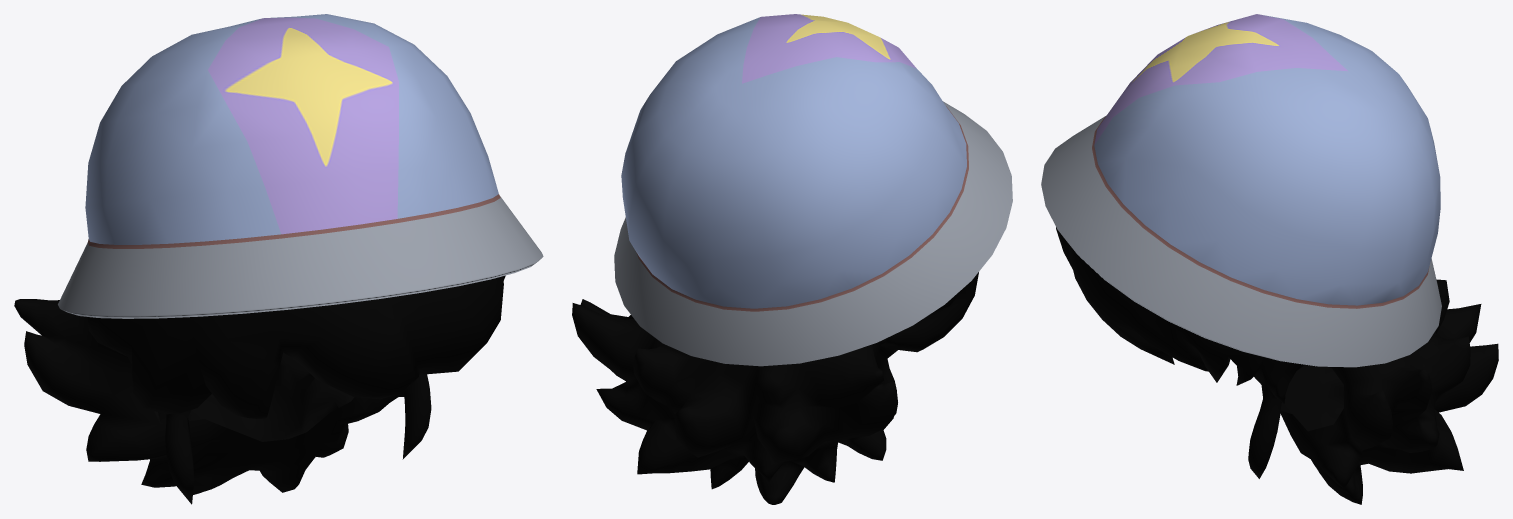
The model's file is Mesh_Char_Player_Female_BaseSet02_Hair.FBX.
3 renders of one model, left to right at view 1: azimuth 30°, elevation 25°; view 2: azimuth 150°, elevation 25°; view 3: azimuth 270°, elevation 25°, orthographic. The views are drawn at different scales.
Parts seen in each view (by area): view 1: Mesh_Char_Player_Female_BaseSet02_Hair; view 2: Mesh_Char_Player_Female_BaseSet02_Hair; view 3: Mesh_Char_Player_Female_BaseSet02_Hair.
Boxes of the visible parts, <box> form: Mesh_Char_Player_Female_BaseSet02_Hair: <box>14,14,543,504</box>; Mesh_Char_Player_Female_BaseSet02_Hair: <box>572,14,1012,504</box>; Mesh_Char_Player_Female_BaseSet02_Hair: <box>1041,14,1498,504</box>.
Bounding box in the file's own units: 38.27 × 44.45 × 41.28.
